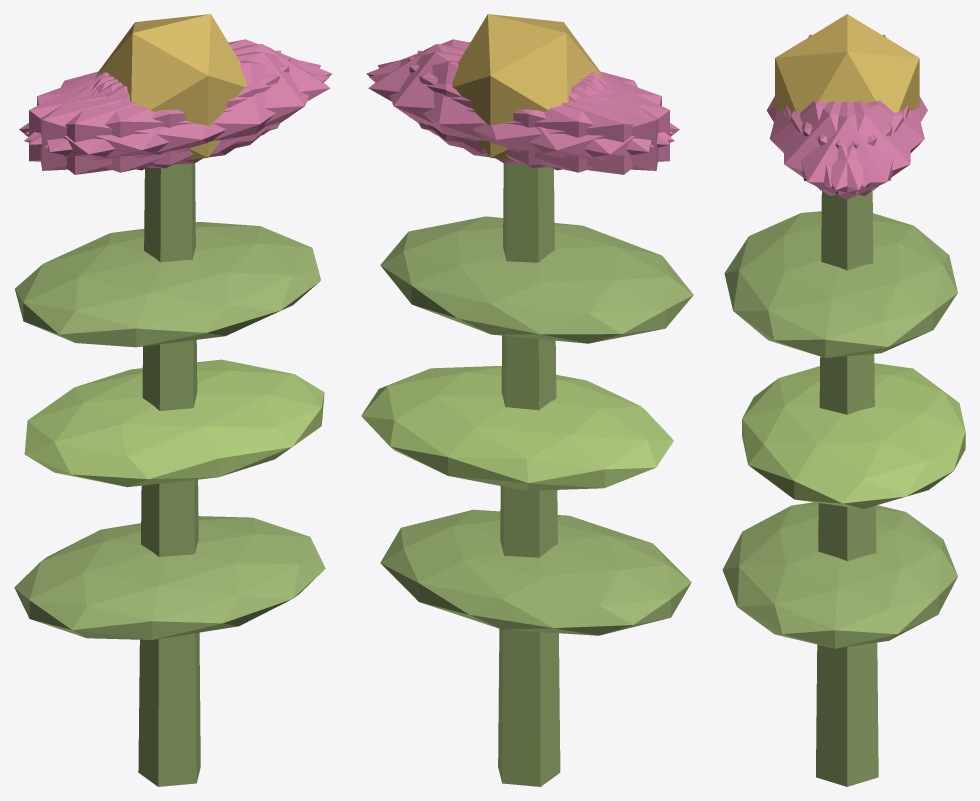
File: psychotria-asiatica.glb
3 renders of one model, left to right at view 1: azimuth 30°, elevation 25°; view 2: azimuth 150°, elevation 25°; view 3: azimuth 270°, elevation 25°, orthographic.
Parts seen in each view (by area): view 1: leaf2, leaf0, leaf1, stem, center, petal1, petal6, petal2, petal5, petal7, petal0, petal4 (+2 smaller); view 2: leaf2, leaf1, leaf0, stem, center, petal8, petal3, petal7, petal4, petal2, petal0, petal5 (+2 smaller); view 3: leaf2, leaf1, leaf0, stem, center, petal0, petal4, petal5, petal8, petal1.
Boxes of the visible parts, x1,y1,x2,y2 form: leaf2: (15, 222, 320, 347); leaf0: (14, 516, 325, 639); leaf1: (24, 359, 324, 487); stem: (138, 163, 200, 786); center: (96, 14, 246, 160); petal1: (24, 60, 329, 172); petal6: (19, 74, 240, 174); petal2: (40, 50, 281, 170); petal5: (44, 51, 320, 164); petal7: (29, 57, 289, 168); petal0: (96, 44, 330, 154); petal4: (25, 39, 332, 144); leaf2: (380, 216, 693, 343); leaf1: (361, 366, 673, 490); leaf0: (380, 509, 691, 635); stem: (498, 163, 560, 786); center: (452, 14, 602, 160); petal8: (369, 60, 674, 172); petal3: (458, 74, 679, 174); petal7: (417, 50, 658, 170); petal4: (377, 51, 653, 164); petal2: (408, 57, 669, 168); petal0: (368, 44, 602, 154); petal5: (366, 39, 673, 144); leaf2: (724, 211, 957, 357); leaf1: (742, 363, 965, 508); leaf0: (722, 502, 957, 648); stem: (816, 191, 878, 786); center: (775, 14, 919, 112); petal0: (785, 101, 909, 199); petal4: (790, 101, 910, 195); petal5: (783, 101, 903, 195); petal8: (801, 100, 924, 187); petal1: (769, 100, 892, 187).
Size of the model in its own units: 0.1452 by 0.3462 by 0.103.
